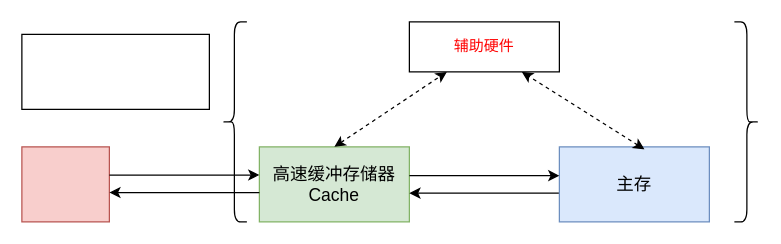
Image size: 781x244. Some labels were removed from this diagram. The shapes that lost their labels are listed below. From the top down, each one's centre as x and y in pixels, then its label:
At [115,71]: "从CPU看 速度是Cache的 容量是主存的".
At [65,184]: "CPU".
